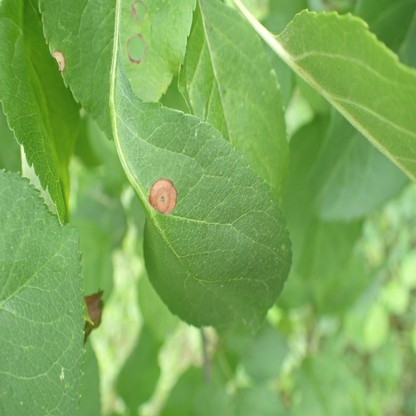frogeye_leaf_spot: (84, 290, 104, 345), (149, 179, 178, 213), (53, 50, 65, 72)
